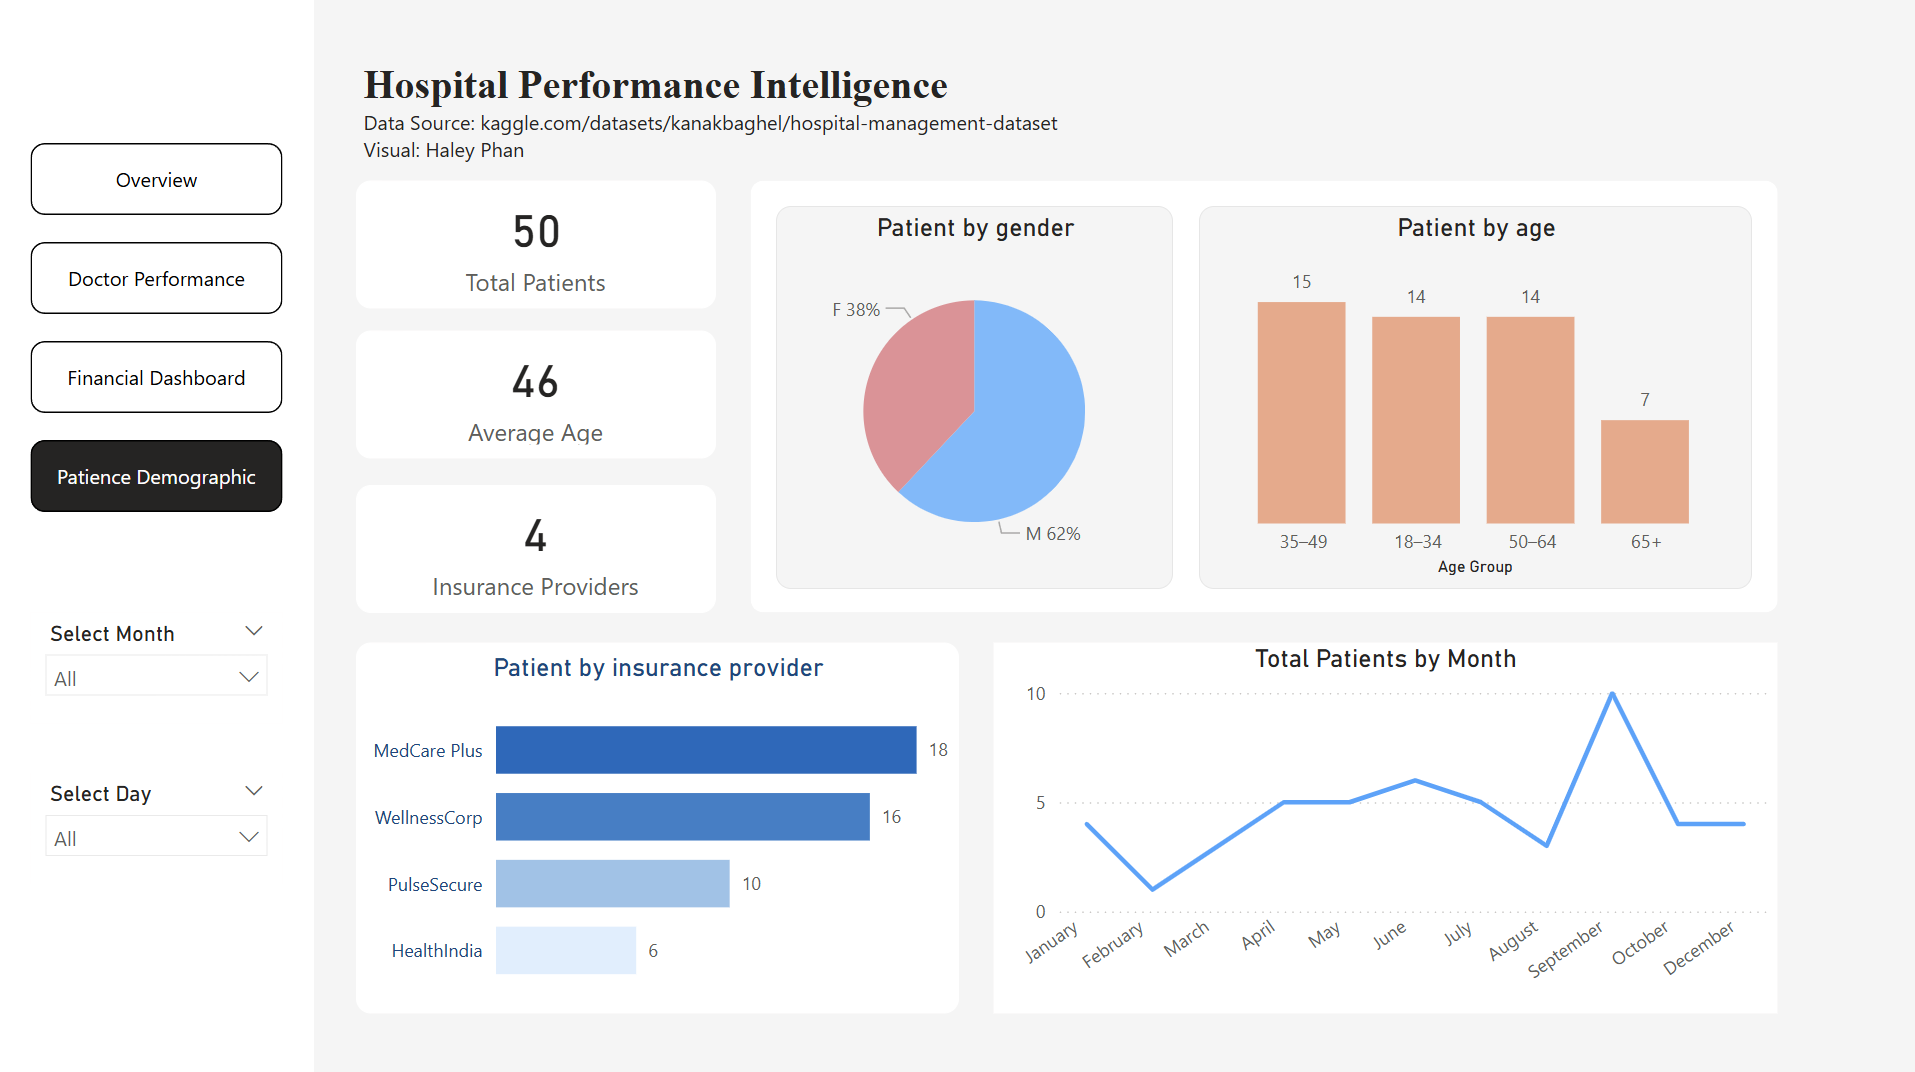

What the dashboard file says about the page in this screenshot:
{"tool":"powerbi","page":{"name":"Patience Demographic","canvas":[1280,720],"ordinal":3},"visuals":[{"type":"shape","box":[501.2,121.2,685,287.5],"z":0},{"type":"card","fields":{"Values":["patients.Total Patients"]},"box":[237.5,121.2,240,85],"z":1000},{"type":"card","fields":{"Values":["appointments.Avg Age"]},"box":[237.5,221.2,240,85],"z":2000},{"type":"card","fields":{"Values":["billing.Insurance Providers"]},"box":[237.5,323.8,240,85],"z":3000},{"type":"clusteredColumnChart","title":"Patient by age","fields":{"Category":["patients.Age Group"],"Y":["patients.Total Patients"]},"box":[800,137.5,368.8,255],"z":4000},{"type":"pieChart","title":"Patient by gender","fields":{"Category":["patients.gender"],"Y":["patients.Total Patients"]},"box":[517.5,137.5,265,255],"z":5000},{"type":"barChart","title":"Patient by insurance provider","fields":{"Category":["patients.insurance_provider"],"Y":["patients.Total Patients"]},"box":[237.5,428.8,402.5,247.5],"z":6000},{"type":"lineChart","fields":{"Category":["patients.registration_date.Variation.Date Hierarchy.Quarter","patients.registration_date.Variation.Date Hierarchy.Month","patients.registration_date.Variation.Date Hierarchy.Day"],"Y":["patients.Total Patients"]},"box":[662.5,428.8,523.8,247.5],"z":7000},{"type":"shape","box":[0,0,210,720],"z":8000},{"type":"pageNavigator","box":[21.2,96.2,167.5,248.8],"z":9000},{"type":"slicer","fields":{"Values":["appointments.appointment_date.Variation.Date Hierarchy.Month"]},"box":[21.2,408.8,167.5,73.8],"z":10000},{"type":"slicer","fields":{"Values":["appointments.appointment_date.Variation.Date Hierarchy.Day"]},"box":[21.2,516.2,167.5,73.8],"z":11000},{"type":"textbox","box":[237.5,36.2,480,85],"z":12000}]}

Visuals, with their boxes in screenshot pixels (x1, y1, x2, y2), scaled from the page's 1280x720 canvas onto the 1915x1072 screenshot:
shape: region(750, 180, 1775, 609)
card - patients.Total Patients: region(355, 180, 714, 307)
card - appointments.Avg Age: region(355, 329, 714, 456)
card - billing.Insurance Providers: region(355, 482, 714, 609)
"Patient by age" clusteredColumnChart: region(1197, 205, 1749, 584)
"Patient by gender" pieChart: region(774, 205, 1171, 584)
"Patient by insurance provider" barChart: region(355, 638, 958, 1007)
lineChart - patients.registration_date.Variation.Date Hierarchy.Quarter x patients.registration_date.Variation.Date Hierarchy.Month: region(991, 638, 1775, 1007)
shape: region(0, 0, 314, 1071)
pageNavigator: region(32, 143, 282, 514)
slicer - appointments.appointment_date.Variation.Date Hierarchy.Month: region(32, 609, 282, 719)
slicer - appointments.appointment_date.Variation.Date Hierarchy.Day: region(32, 769, 282, 878)
textbox: region(355, 54, 1073, 180)
